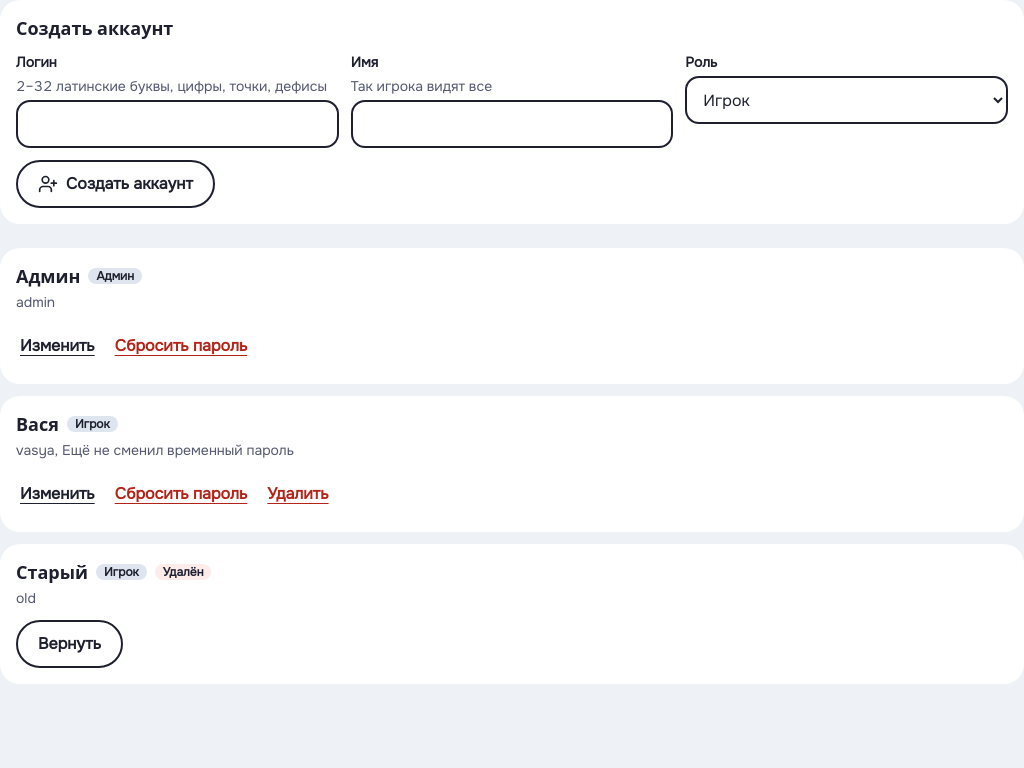
Scenario: The accounts › says a taken login
Type "vasya" into the field with test id "account-login" at coordinates (177, 124), box [16,100,339,148]
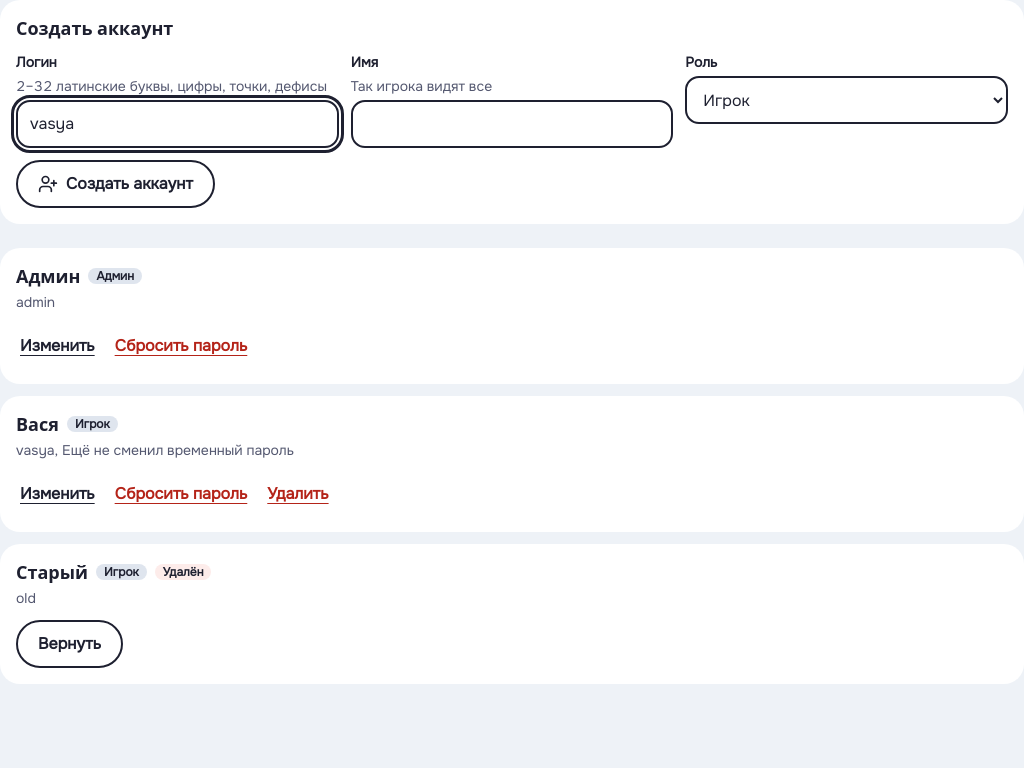
Type "Вася" into the field with test id "account-name" at coordinates (512, 124), box [351,100,673,148]
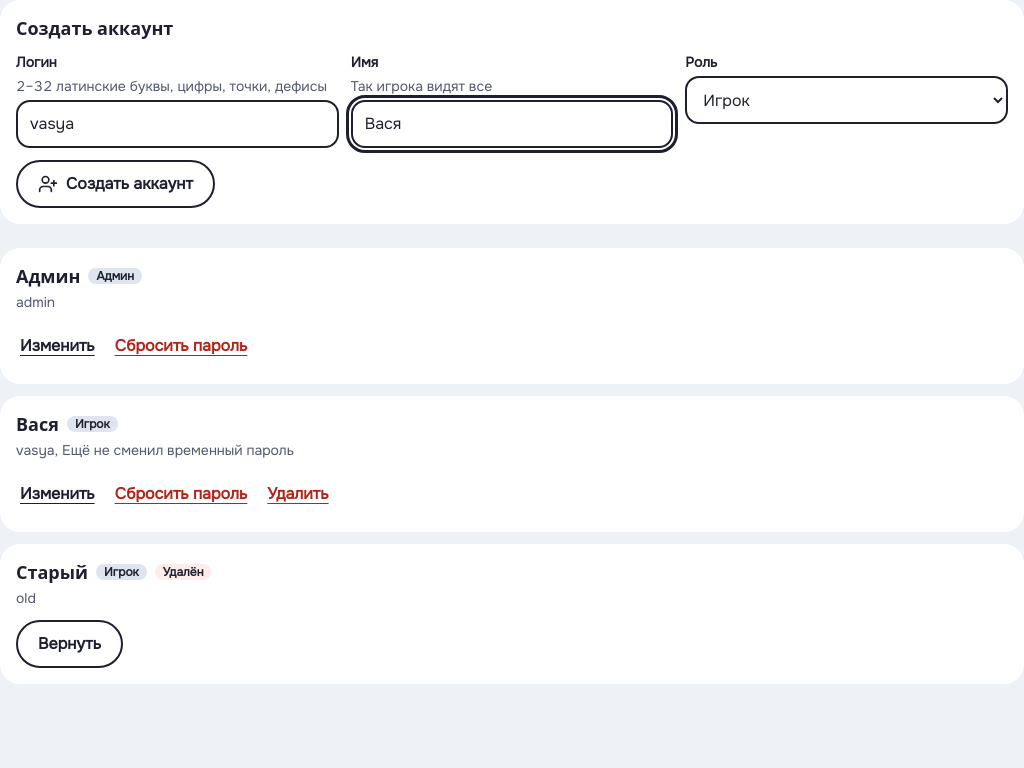
Click the button with test id "account-create" at coordinates (115, 184), box [16,160,215,208]
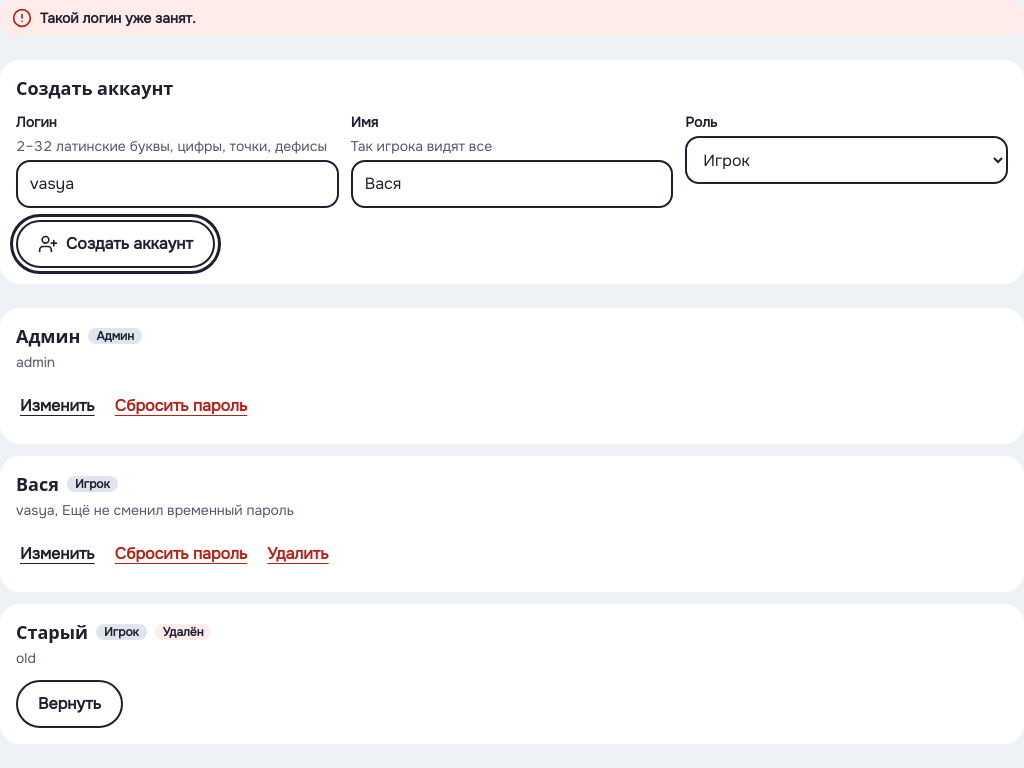
Result: the text "Такой логин уже занят." is shown at [40,8,196,28]
